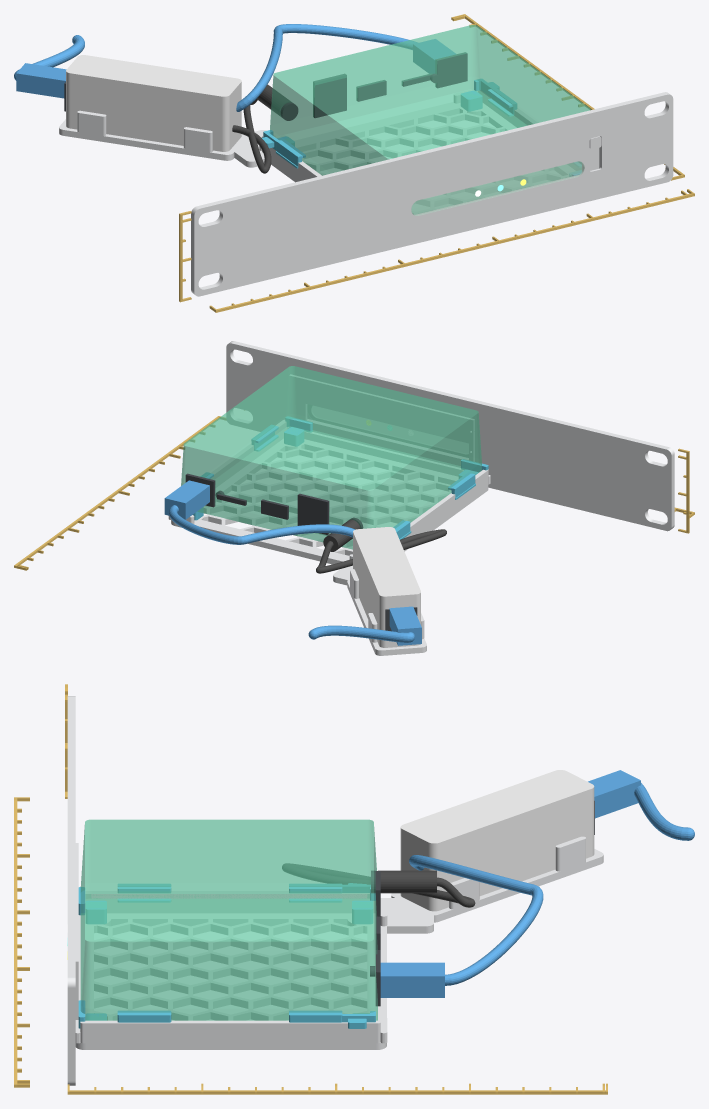
The model's file is home-assistant-green-rack-sics_angled.glb.
3 renders of one model, top to bottom at view 1: azimuth 30°, elevation 25°; view 2: azimuth 150°, elevation 25°; view 3: azimuth 270°, elevation 25°, orthographic. The views are drawn at different scales.
Parts seen in each view (by area): view 1: White rack mount, Home Assistant Green, SICSOLINK SL-FLQ-POE48K, Green tray — standard, 10 mm dimension rulers, Home Assistant Green connector faces, Internal Ethernet cable, LED window insert, Incoming PoE cable, Green retention — segmented rails + rear latch, DC cable, Home Assistant logo; view 2: Home Assistant Green, White rack mount, Green tray — standard, LED shutter retainer, SICSOLINK SL-FLQ-POE48K, Internal Ethernet cable, Green retention — segmented rails + rear latch, LED window insert, Home Assistant Green connector faces, Incoming PoE cable, 10 mm dimension rulers, DC cable; view 3: Home Assistant Green, Green tray — standard, SICSOLINK SL-FLQ-POE48K, White rack mount, Internal Ethernet cable, Green retention — segmented rails + rear latch, 10 mm dimension rulers, DC cable, Incoming PoE cable, Home Assistant Green connector faces, LED shutter retainer.
Part boxes in pixels (box(x1,y1,x2,y2)): White rack mount: box(59, 92, 673, 296); Home Assistant Green: box(270, 25, 590, 214); SICSOLINK SL-FLQ-POE48K: box(66, 55, 241, 151); Green tray — standard: box(259, 89, 537, 182); 10 mm dimension rulers: box(179, 14, 694, 312); Home Assistant Green connector faces: box(280, 52, 467, 120); Internal Ethernet cable: box(236, 24, 455, 111); LED window insert: box(411, 161, 584, 215); Incoming PoE cable: box(14, 35, 84, 98); Green retention — segmented rails + rear latch: box(262, 79, 581, 175); DC cable: box(232, 84, 291, 173); Home Assistant logo: box(294, 205, 331, 249); Home Assistant Green: box(181, 366, 481, 549); White rack mount: box(226, 341, 674, 655); Green tray — standard: box(168, 420, 490, 564); LED shutter retainer: box(289, 374, 474, 461); SICSOLINK SL-FLQ-POE48K: box(353, 527, 420, 647); Internal Ethernet cable: box(164, 480, 354, 544); Green retention — segmented rails + rear latch: box(193, 416, 488, 539); LED window insert: box(308, 405, 468, 457); Home Assistant Green connector faces: box(185, 473, 363, 534); Incoming PoE cable: box(308, 606, 421, 645); 10 mm dimension rulers: box(14, 410, 694, 570); DC cable: box(316, 519, 446, 573); Home Assistant Green: box(80, 819, 377, 1020); Green tray — standard: box(75, 891, 387, 1049); SICSOLINK SL-FLQ-POE48K: box(400, 770, 594, 911); White rack mount: box(67, 696, 603, 1085); Internal Ethernet cable: box(380, 855, 543, 997); Green retention — segmented rails + rear latch: box(78, 883, 375, 1028); 10 mm dimension rulers: box(14, 684, 607, 1094); DC cable: box(282, 863, 475, 907); Incoming PoE cable: box(588, 770, 694, 840); Home Assistant Green connector faces: box(370, 870, 380, 1006); LED shutter retainer: box(75, 843, 78, 1019).
Size of what is drawn, in the model's own units: 268 by 44.45 by 254.
